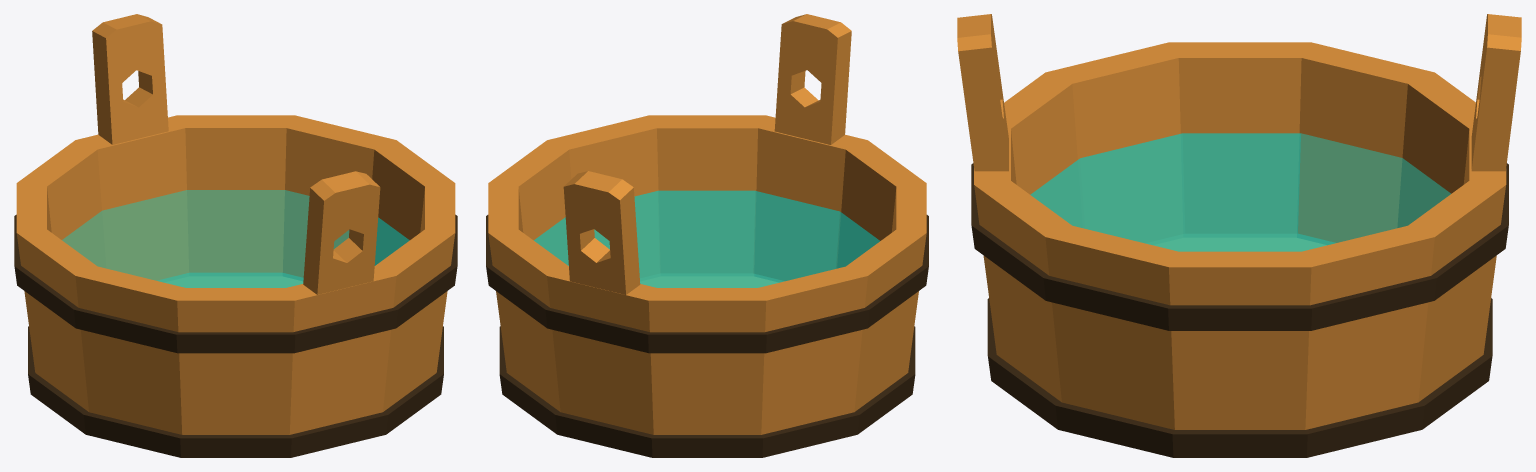
Rendered from washtub.fbx.
3 renders of one model, left to right at view 1: azimuth 30°, elevation 25°; view 2: azimuth 150°, elevation 25°; view 3: azimuth 270°, elevation 25°, orthographic. The views are drawn at different scales.
Parts seen in each view (by area): view 1: tub1; view 2: tub1; view 3: tub1.
Part boxes in pixels (x1,y1,x2,y2): tub1: [14, 14, 457, 457]; tub1: [486, 14, 928, 457]; tub1: [957, 14, 1521, 457].
Size of the model in its own units: 19.4 by 13.09 by 20.38.
